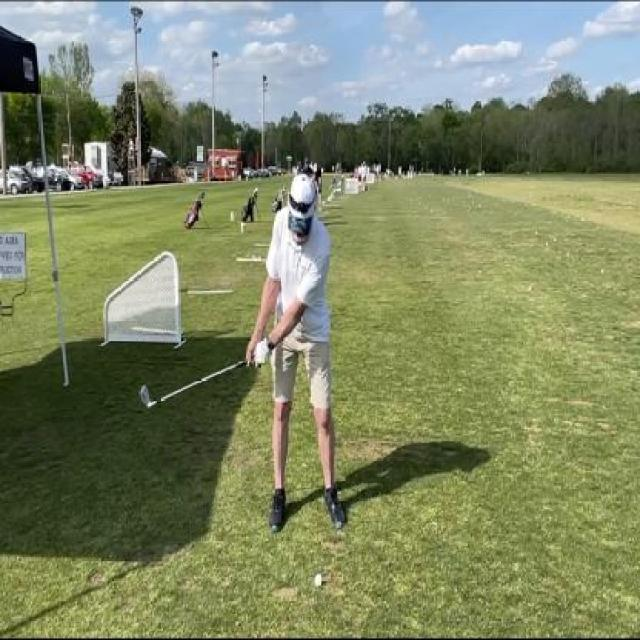club head: (136, 381, 159, 413)
